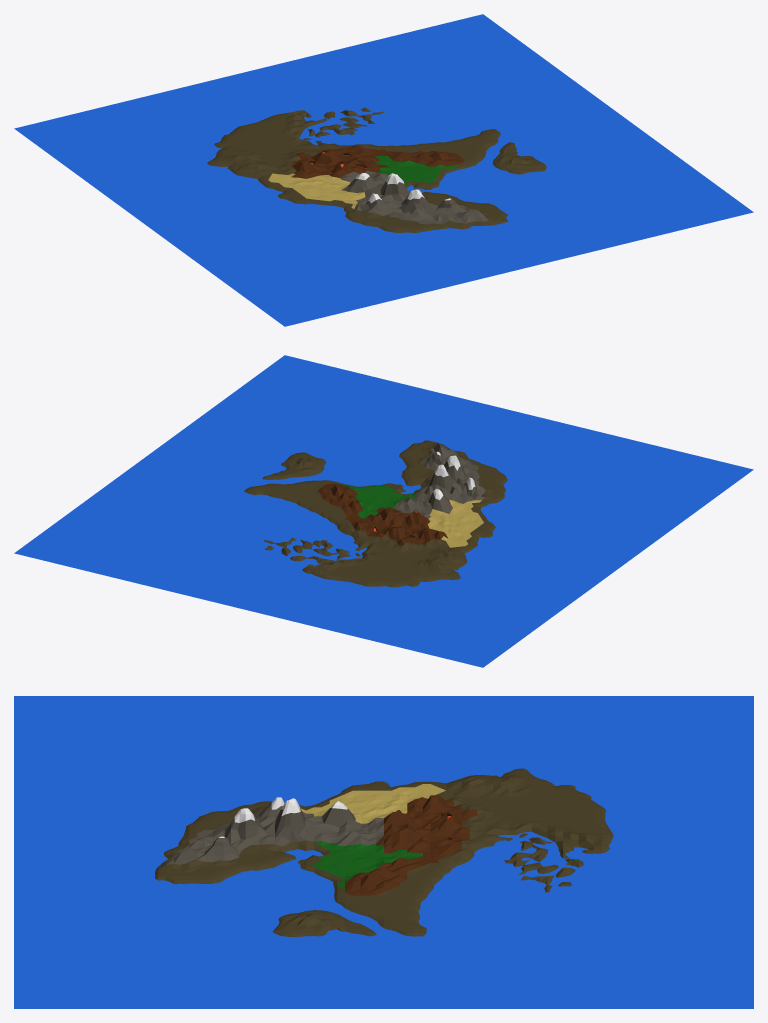
Rendered from SelectMap.fbx.
The picture shows the model from 3 angles, top to bottom: view 1: azimuth 30°, elevation 25°; view 2: azimuth 150°, elevation 25°; view 3: azimuth 270°, elevation 25°; orthographic projection. The views are drawn at different scales.
Visible parts, largest first — view 1: Water, Land; view 2: Water, Land; view 3: Water, Land.
Part boxes in pixels (left/top/right/bottom): Water: left=14, top=14, right=753, bottom=326; Land: left=207, top=107, right=546, bottom=232; Water: left=14, top=355, right=753, bottom=667; Land: left=244, top=440, right=507, bottom=587; Water: left=14, top=696, right=753, bottom=1008; Land: left=155, top=768, right=613, bottom=936.
Size of the model in its own units: 297 by 20.14 by 297.
